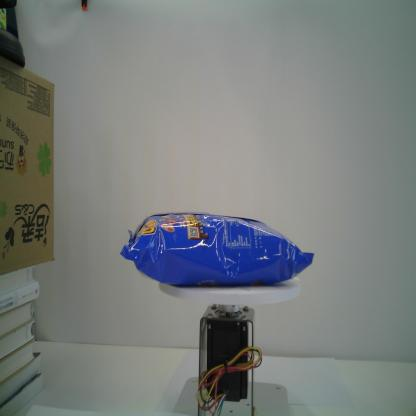Puffed Food: (119, 209, 315, 288)
